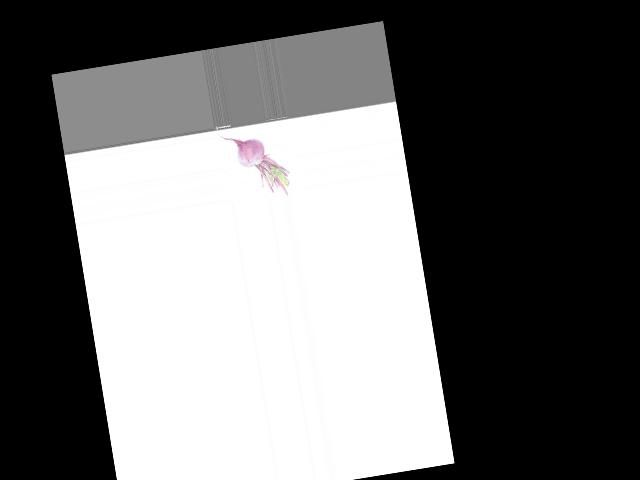beet: (218, 123, 293, 204)
